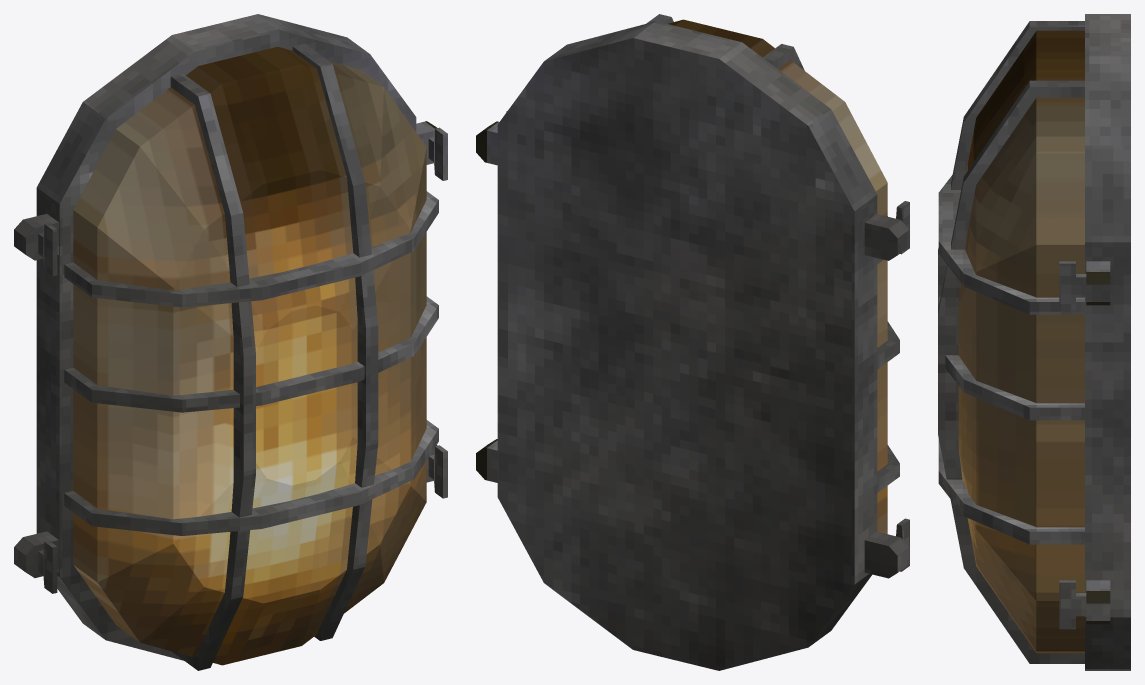
File: WallLamp_B.fbx
The picture shows the model from 3 angles, left to right: view 1: azimuth 30°, elevation 25°; view 2: azimuth 150°, elevation 25°; view 3: azimuth 270°, elevation 25°; orthographic projection.
Parts seen in each view (by area): view 1: Cube; view 2: Cube; view 3: Cube.
Boxes of the visible parts, x1,y1,x2,y2 form: Cube: [14, 14, 447, 670]; Cube: [476, 14, 909, 670]; Cube: [938, 14, 1130, 670].
Size of the model in its own units: 20.85 by 28.93 by 8.23.
